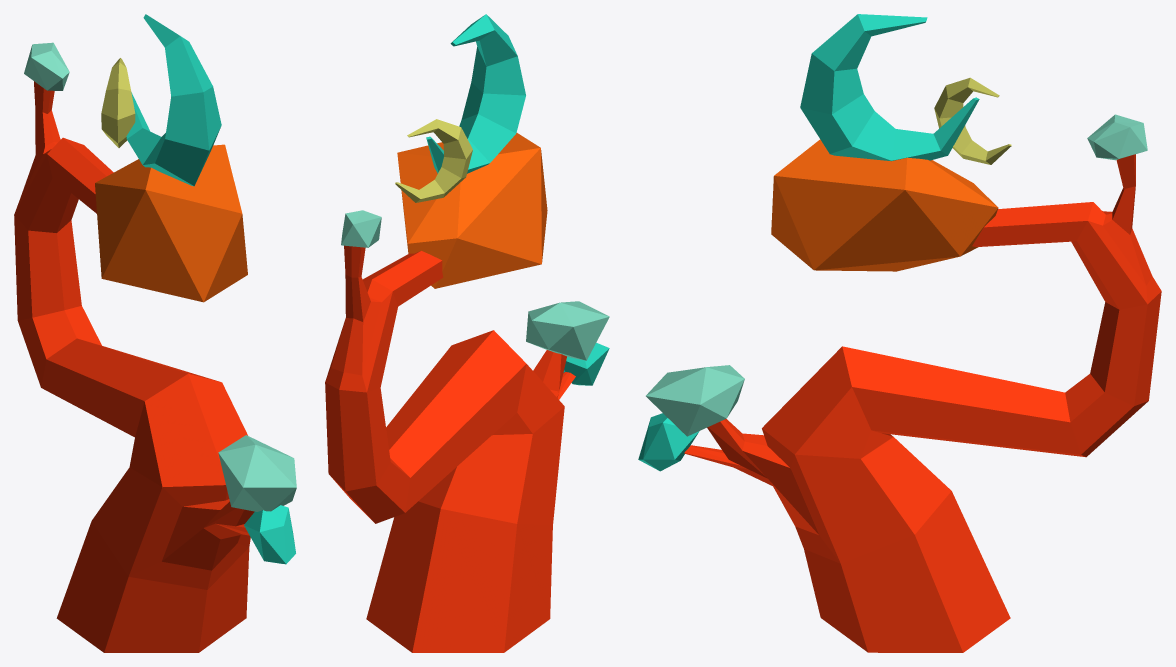
Rendered from st1_tree2.fbx.
3 views of the same model, side by side, from view 1: azimuth 30°, elevation 25°; view 2: azimuth 150°, elevation 25°; view 3: azimuth 270°, elevation 25° (orthographic). The views are drawn at different scales.
Parts seen in each view (by area): view 1: 2_leaves1; view 2: 2_leaves1; view 3: 2_leaves1.
Boxes of the visible parts, x1,y1,x2,y2 form: 2_leaves1: [14, 14, 296, 652]; 2_leaves1: [325, 14, 609, 652]; 2_leaves1: [638, 14, 1161, 652].
Bounding box in the file's own units: 60.23 × 244 × 192.
